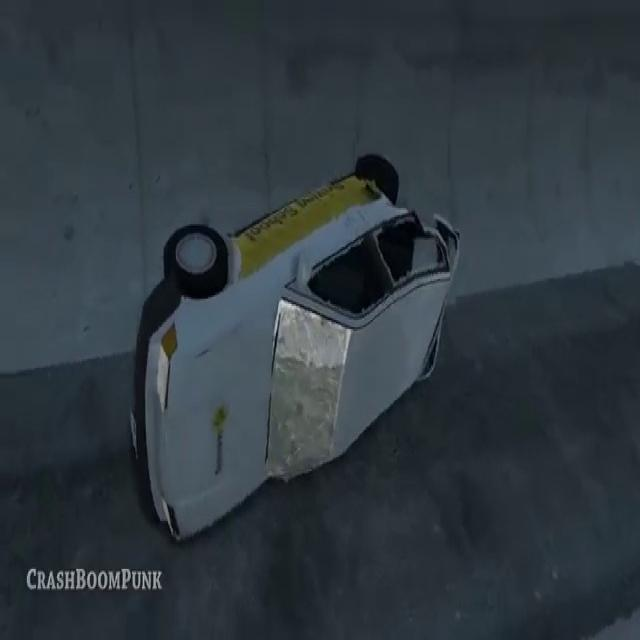severe: (122, 146, 462, 541)
